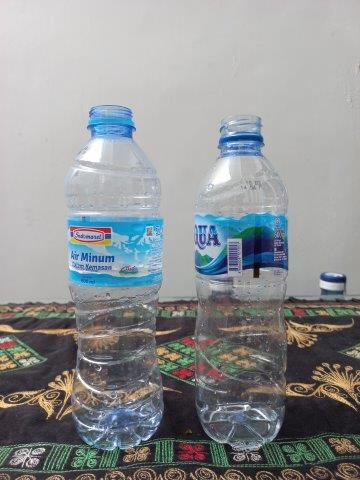botolplastik: (64, 104, 164, 448), (193, 113, 289, 446)
